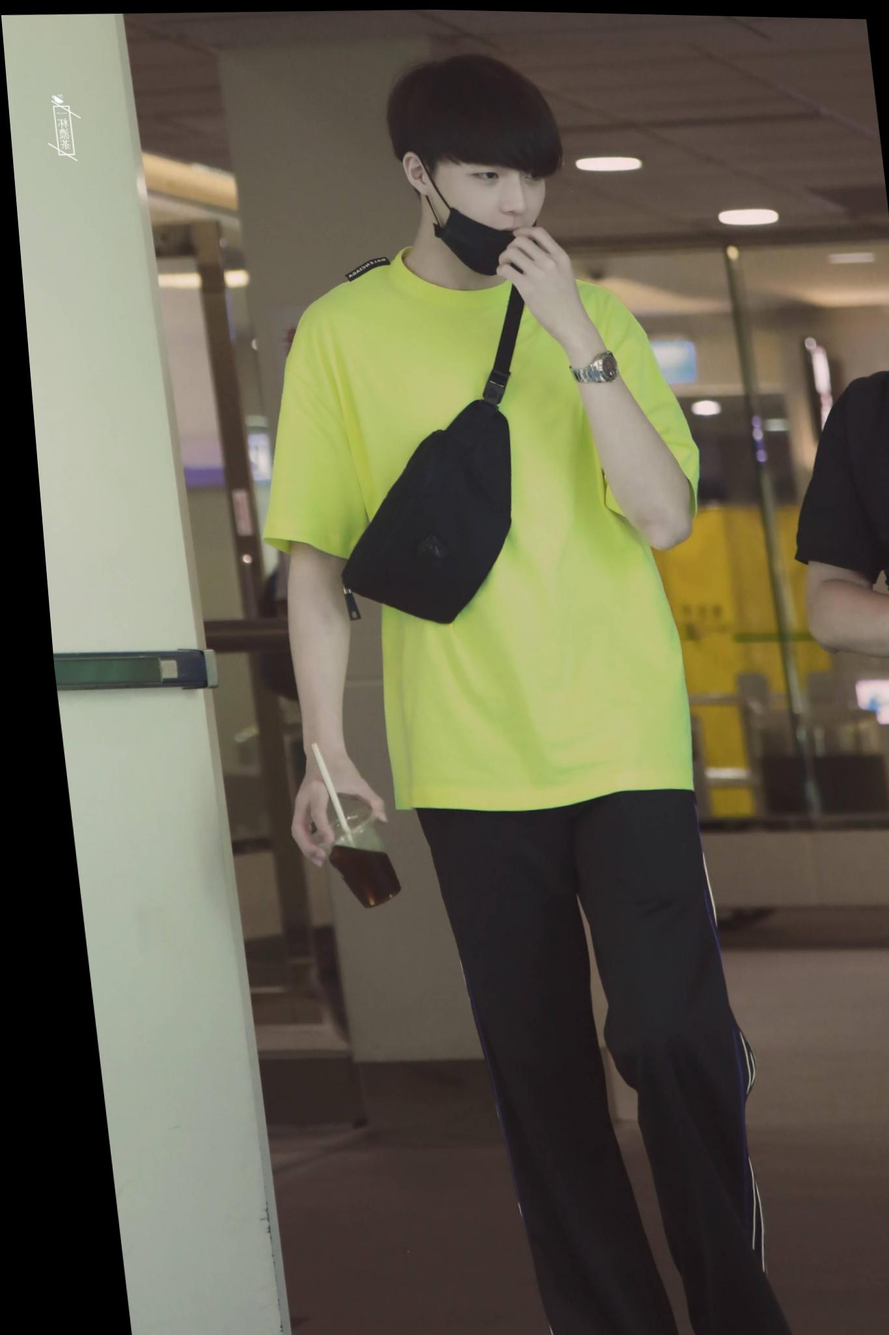WRONG: (425, 137, 556, 278)
